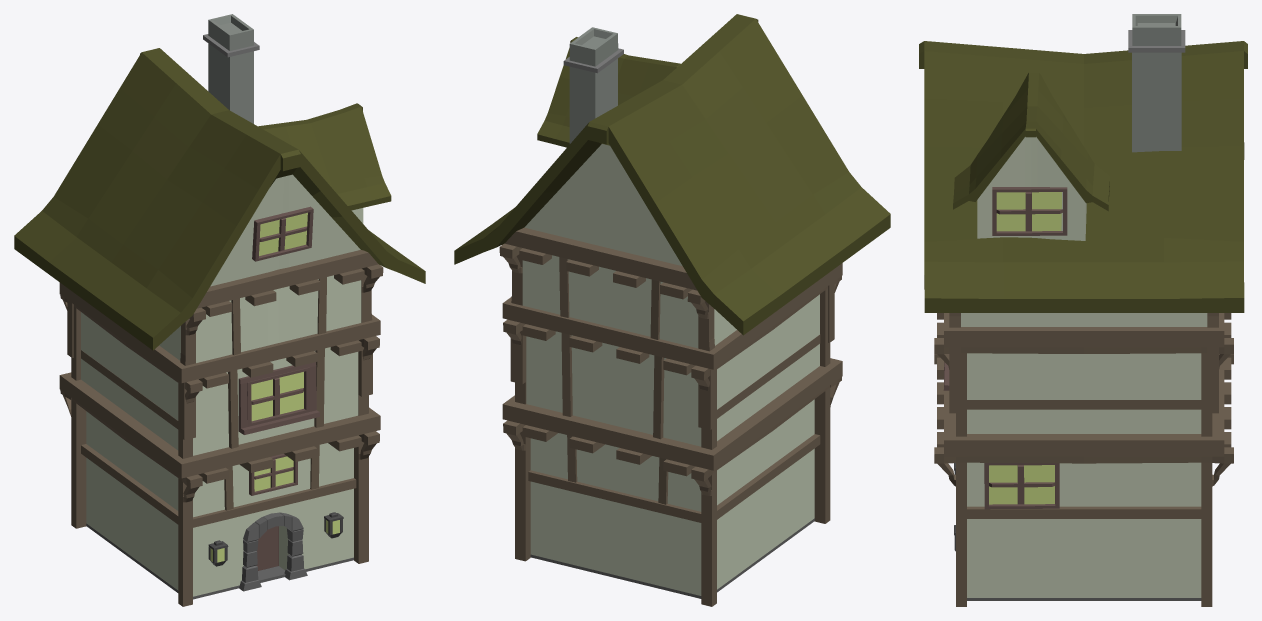
Rendered from casa.fbx.
The picture shows the model from 3 angles, left to right: view 1: azimuth 30°, elevation 25°; view 2: azimuth 150°, elevation 25°; view 3: azimuth 270°, elevation 25°; orthographic projection. The views are drawn at different scales.
Visible parts, largest first — view 1: Cubo, Cubo.001, Cubo.002, Cubo.003, Cubo.005, Cubo.013, Cubo.004, Cubo.010, Cubo.006, Cubo.007; view 2: Cubo, Cubo.001, Cubo.002, Cubo.003, Cubo.004, Cubo.005; view 3: Cubo, Cubo.001, Cubo.005, Cubo.002, Cubo.004, Cubo.009, Cubo.008, Cubo.003.
Boxes of the visible parts, x1,y1,x2,y2 form: Cubo: (14, 48, 425, 599); Cubo.001: (59, 277, 380, 606); Cubo.002: (59, 282, 380, 511); Cubo.003: (67, 250, 383, 440); Cubo.005: (258, 103, 391, 223); Cubo.013: (238, 362, 319, 434); Cubo.004: (203, 14, 259, 123); Cubo.010: (239, 512, 307, 591); Cubo.006: (252, 206, 313, 261); Cubo.007: (249, 453, 297, 495); Cubo: (454, 14, 890, 598); Cubo.001: (502, 257, 842, 606); Cubo.002: (502, 263, 842, 495); Cubo.003: (499, 227, 834, 429); Cubo.004: (563, 27, 623, 143); Cubo.005: (537, 37, 680, 147); Cubo: (919, 41, 1247, 600); Cubo.001: (934, 354, 1233, 606); Cubo.005: (953, 72, 1109, 240); Cubo.002: (934, 313, 1233, 497); Cubo.004: (1128, 14, 1185, 152); Cubo.009: (992, 187, 1067, 235); Cubo.008: (984, 463, 1059, 509); Cubo.003: (949, 313, 1218, 413).
Bounding box in the file's own units: 966 × 1643 × 878.
